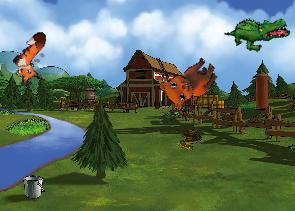bear: (154, 46, 222, 116)
crocodile: (223, 2, 292, 62)
fox: (3, 28, 63, 90)
